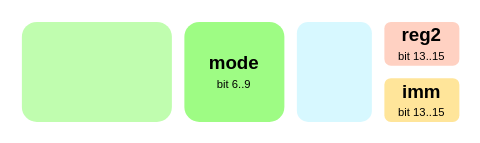
This 480x143 diagram has some shape labels left out. Here are the shapes that lost their labels. From the top down, the centre of each, then its label:
At (96,71): "op bit 0..5".
At (333,71): "reg1 bit 10..12".
